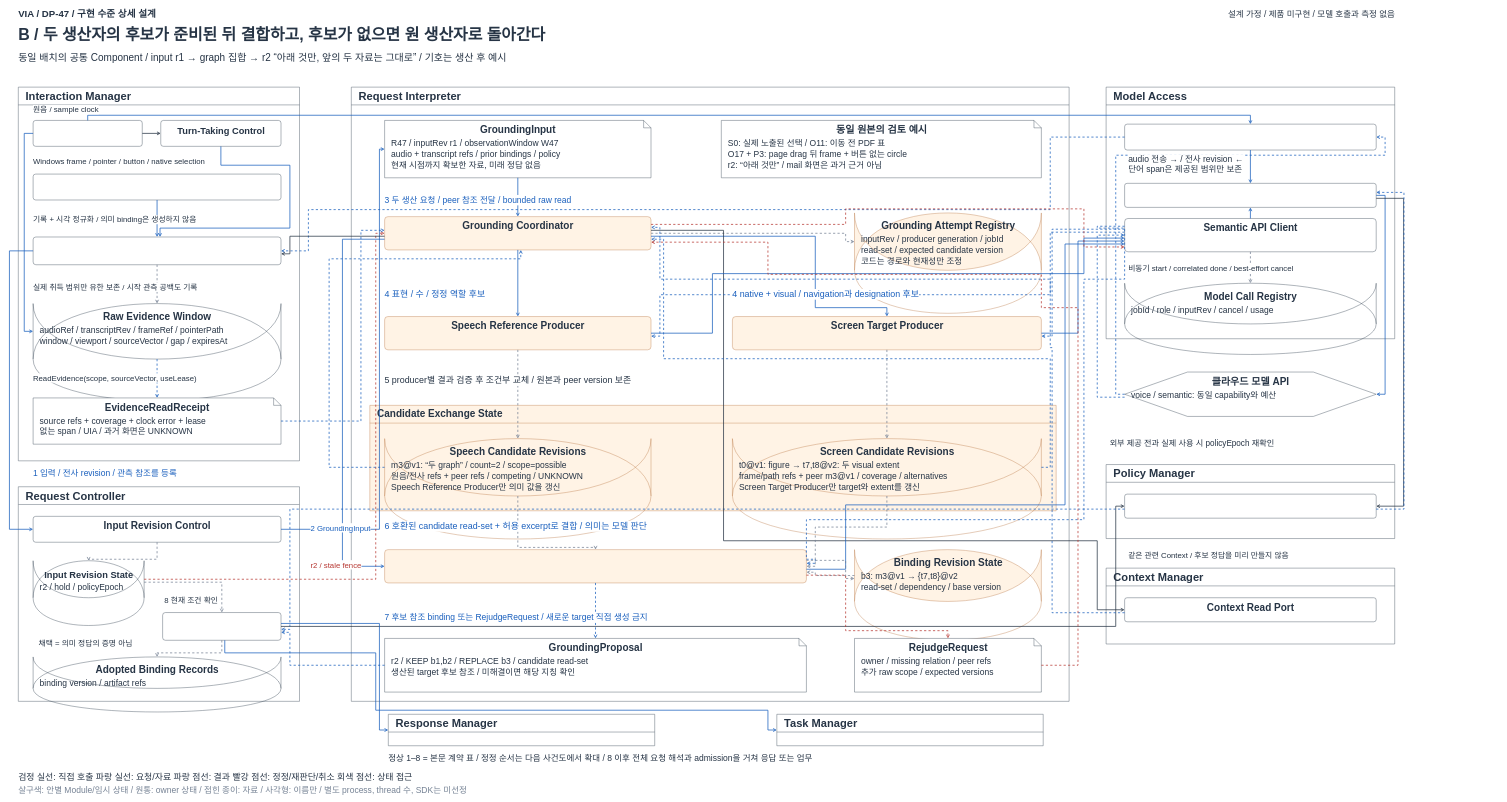
Image size: 1507x802. Some labels were removed from this diagram. Each missing label, with the centre of its shape:
"Adoption Control" goes at point (221, 626).
"Channel I/O" goes at point (87, 133).
"Evidence Capture" goes at point (157, 187).
"Evidence Use Authorization" goes at point (1250, 506).
"Model Use Gate" goes at point (1250, 195).
"Multimodal Binding Resolver" goes at point (595, 566).
"Timeline & Buffer" goes at point (157, 251).
"Voice API Client" goes at point (1250, 137).
